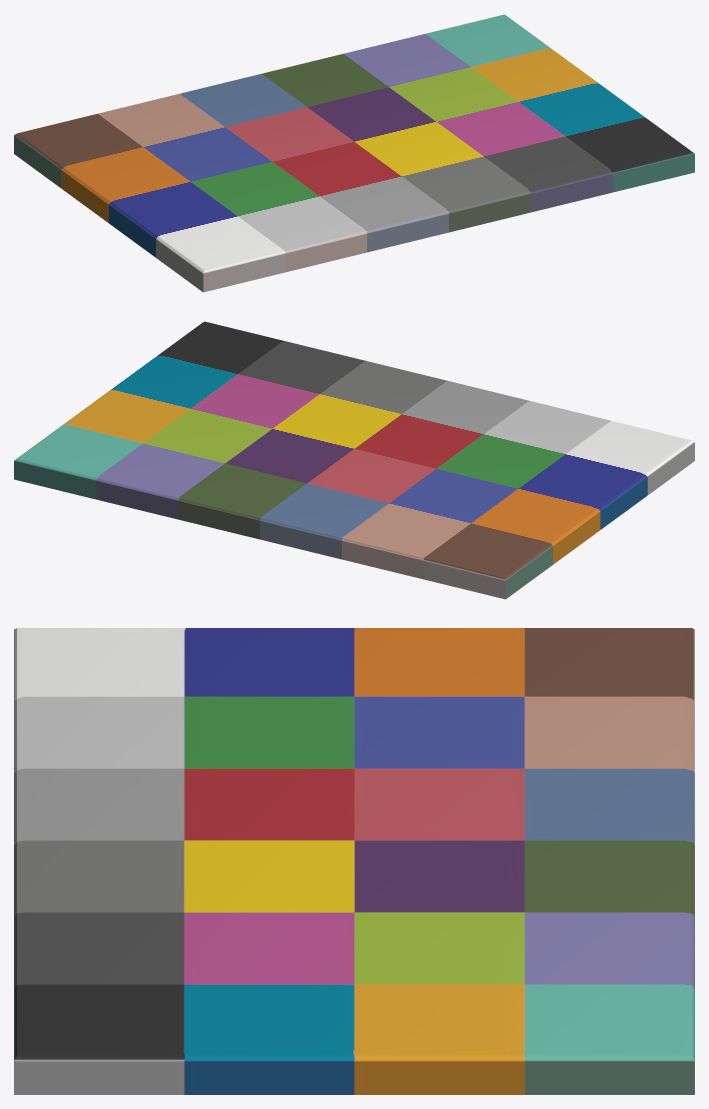
File: colorCalibrationCard.dae
3 renders of one model, top to bottom at view 1: azimuth 30°, elevation 25°; view 2: azimuth 150°, elevation 25°; view 3: azimuth 270°, elevation 25°, orthographic. The views are drawn at different scales.
Parts seen in each view (by area): view 1: colorCard; view 2: colorCard; view 3: colorCard.
Boxes of the visible parts, <box> form: colorCard: <box>14,14,694,292</box>; colorCard: <box>14,321,694,599</box>; colorCard: <box>14,628,694,1094</box>.
Size of the model in its own units: 6 by 4 by 0.25.
Materials: 1 (1 with a texture image).
